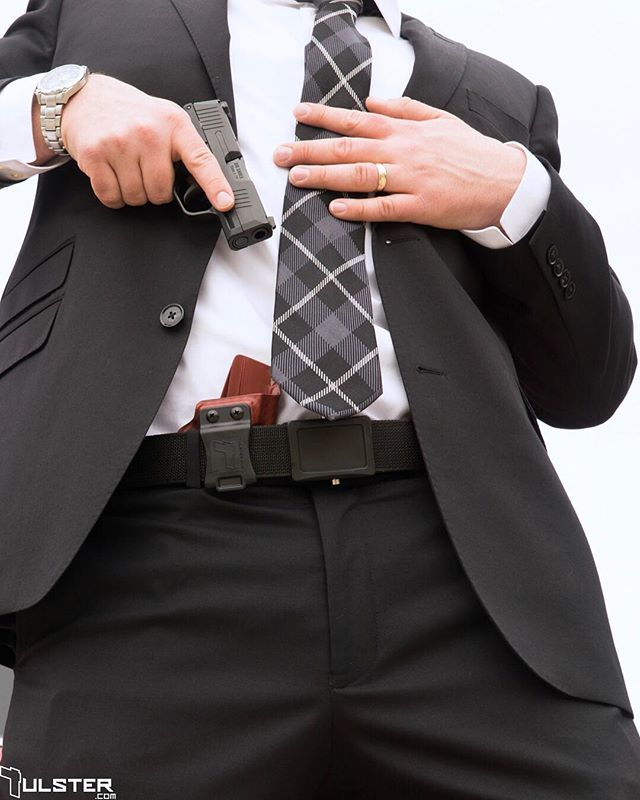gun: (149, 95, 281, 260)
